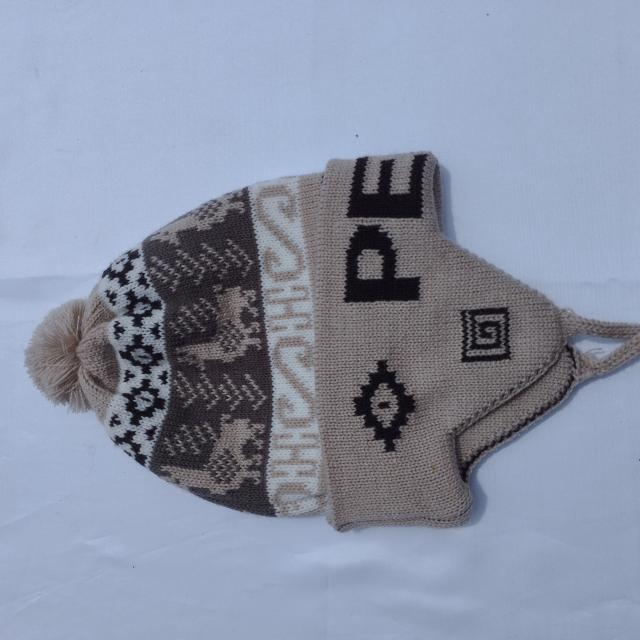Gorro: (23, 149, 639, 532)
